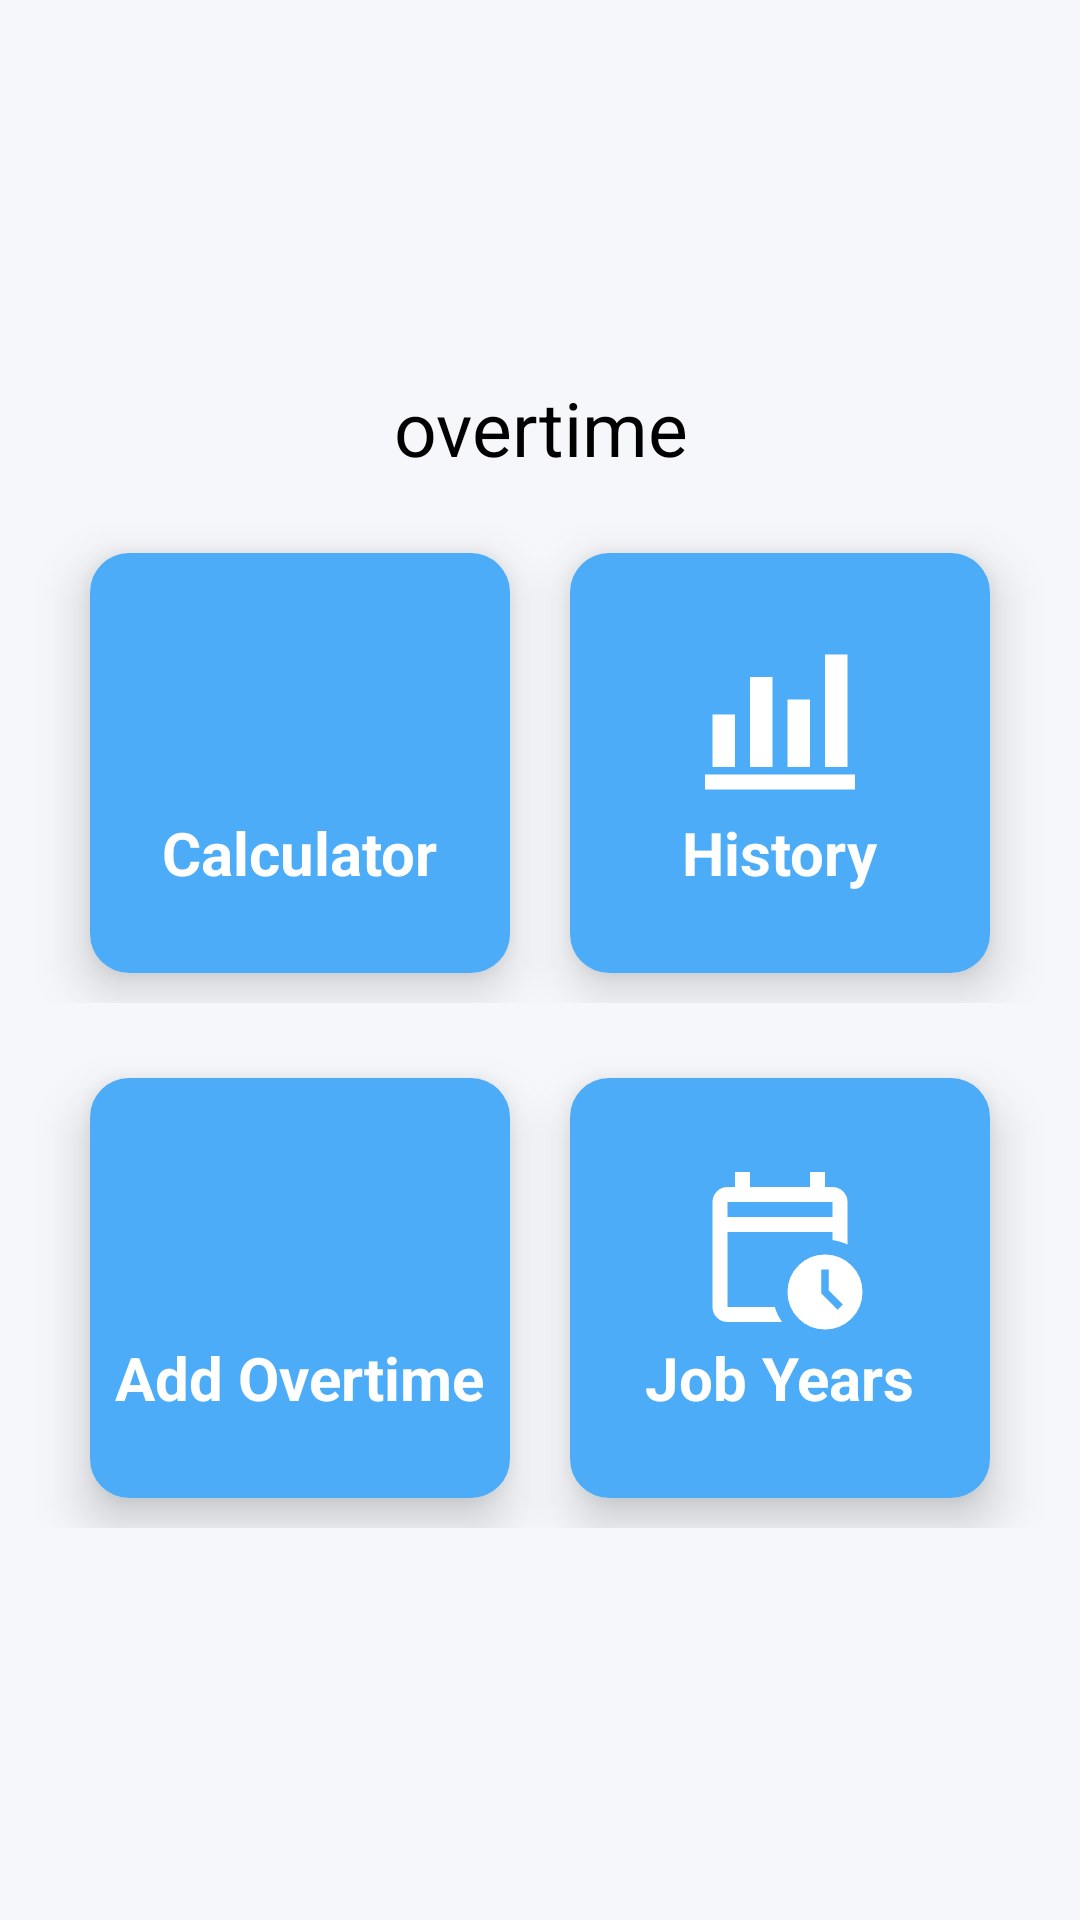

Icons on this 1080 × 1920 Android screen, each with its box as (x1, y1, x2, y2):
calendar clock: (712, 1172, 863, 1330)
